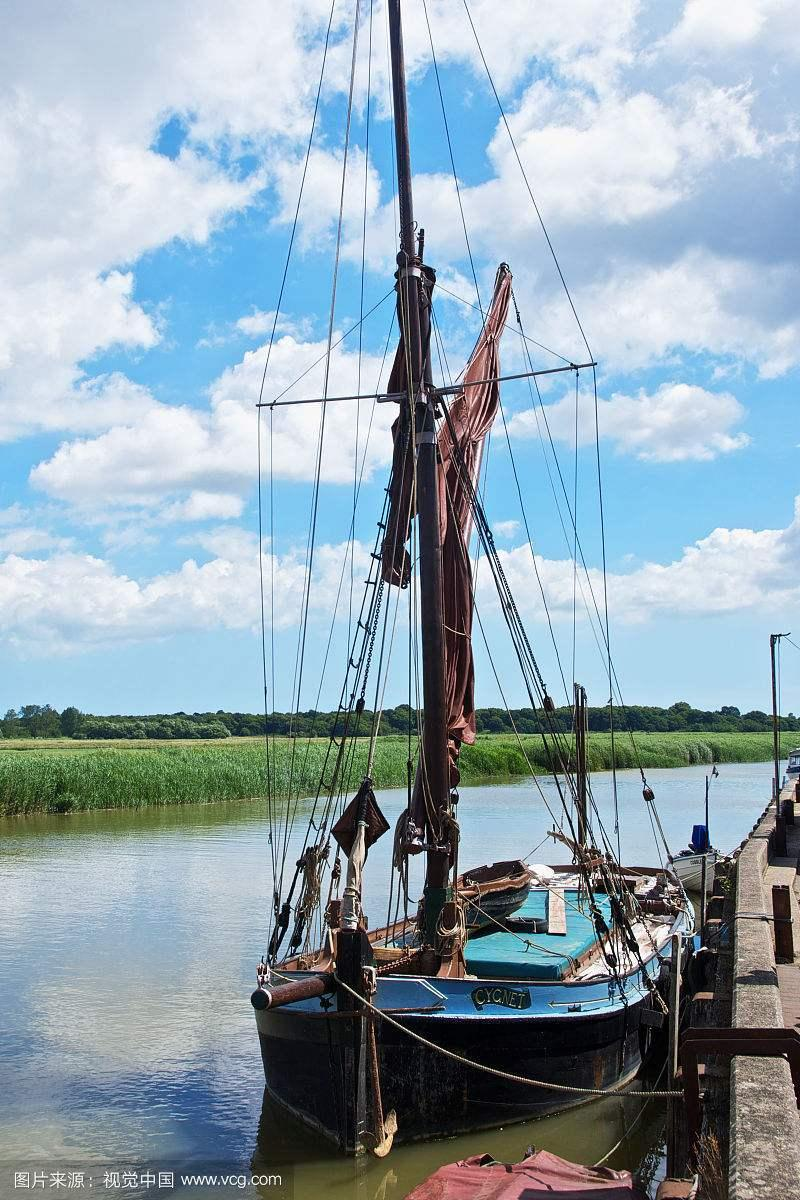fanchuan: (254, 1, 646, 1157)
